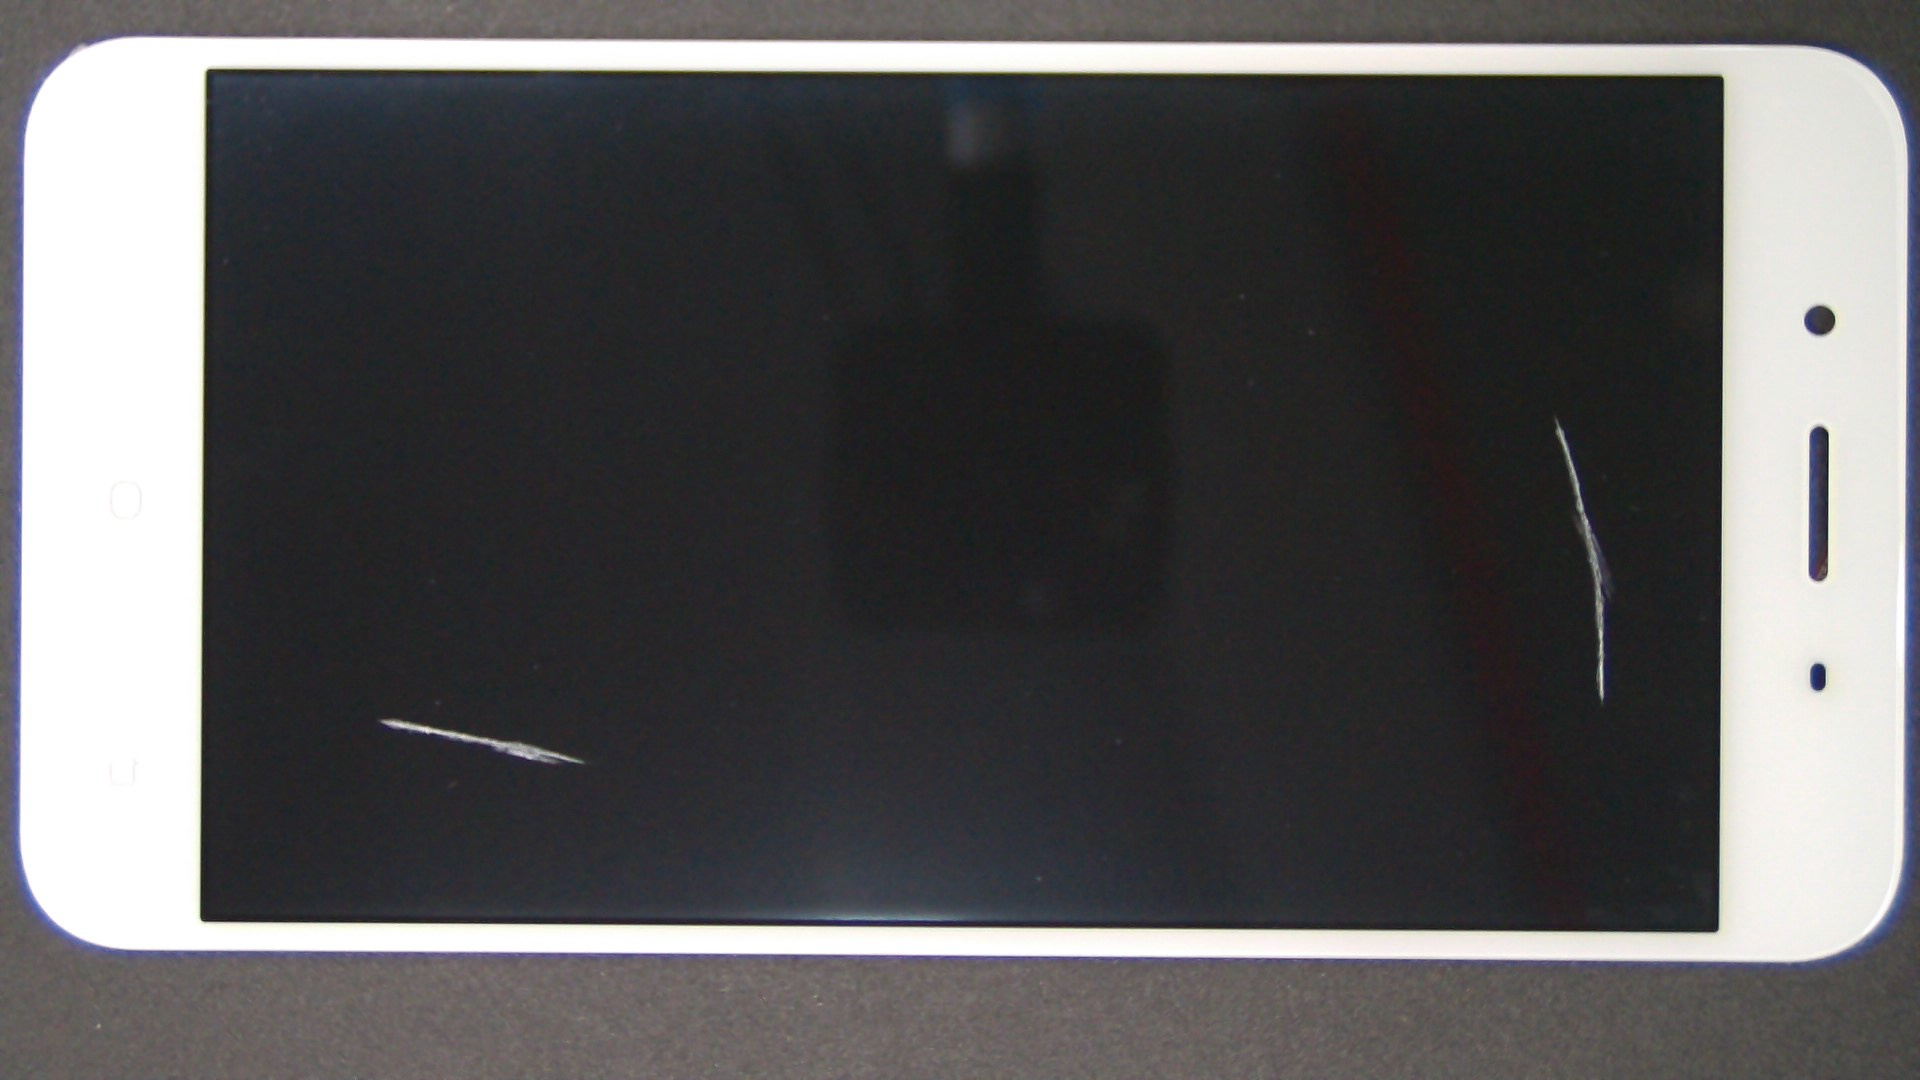oil: (777, 207, 1920, 624), (193, 357, 578, 1076)
